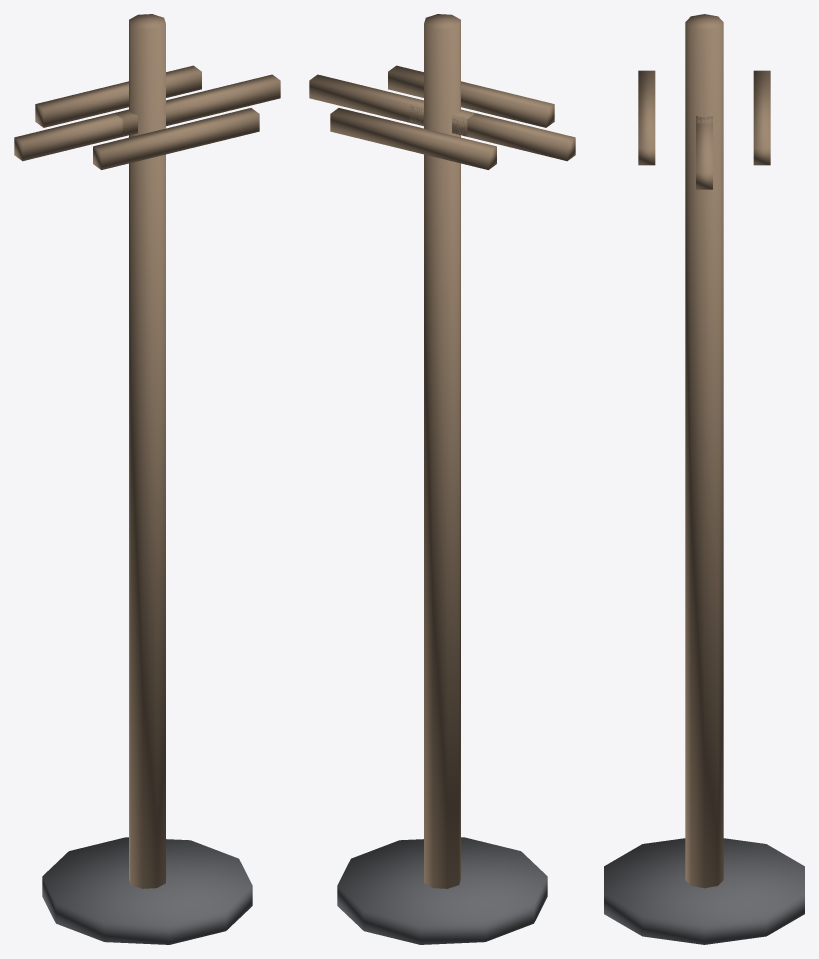
Rendered from coat_rack__tall.glb.
3 views of the same model, side by side, from view 1: azimuth 30°, elevation 25°; view 2: azimuth 150°, elevation 25°; view 3: azimuth 270°, elevation 25° (orthographic).
Parts seen in each view (by area): view 1: world; view 2: world; view 3: world.
Boxes of the visible parts, box(x1,y1,x2,y2) form: world: box(14, 14, 280, 944); world: box(309, 14, 575, 944); world: box(604, 14, 804, 944).
Bounding box in the file's own units: 0.62 × 2.02 × 0.4185.
